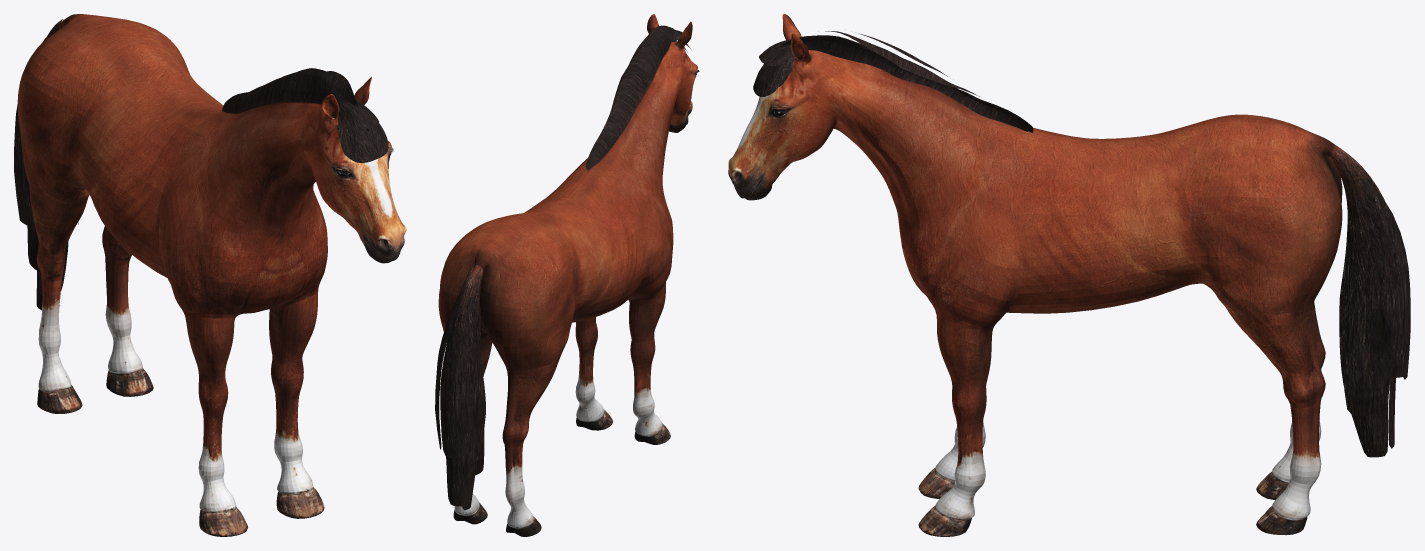
File: pferd.glb
3 renders of one model, left to right at view 1: azimuth 30°, elevation 25°; view 2: azimuth 150°, elevation 25°; view 3: azimuth 270°, elevation 25°, orthographic. The views are drawn at different scales.
Visible parts, largest first — view 1: modell; view 2: modell; view 3: modell.
Boxes of the visible parts, x1,y1,x2,y2 form: modell: (14,14,406,536); modell: (435,14,699,536); modell: (728,14,1410,536).
Size of the model in its own units: 0.6792 by 2.07 by 2.59.
1 material, 1 textured.
